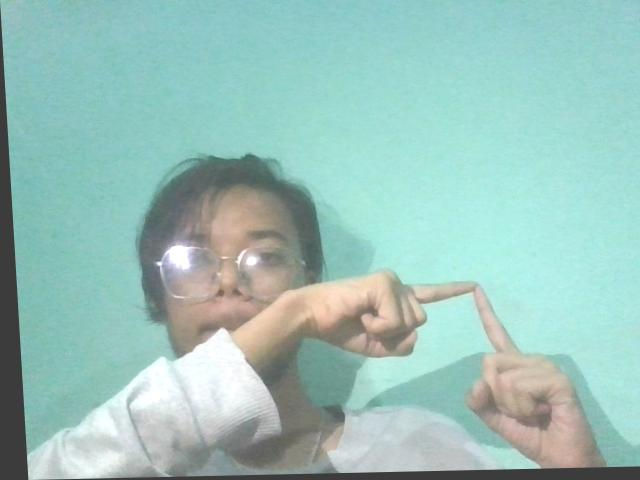When: (274, 245, 603, 460)
